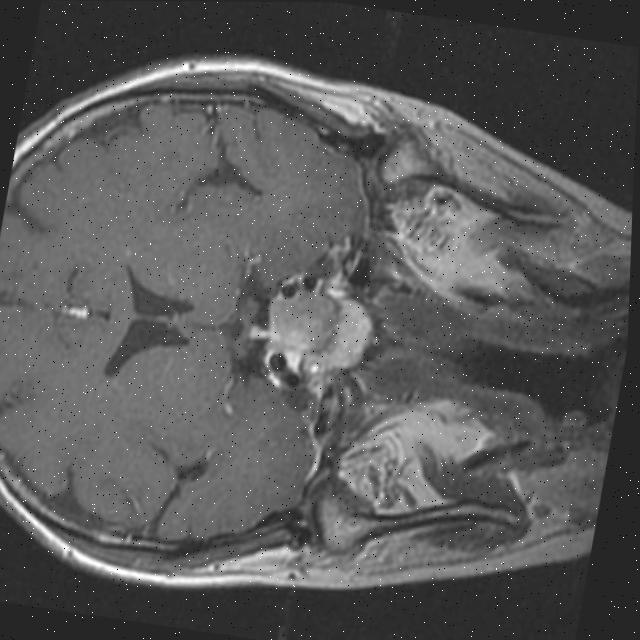Pituitary: (256, 284, 380, 374)
